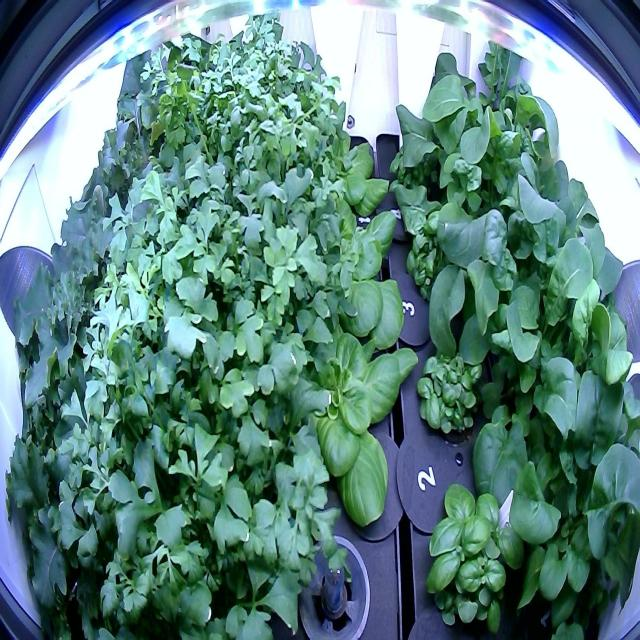young: (250, 318, 421, 537), (272, 195, 411, 355), (282, 126, 399, 244)
